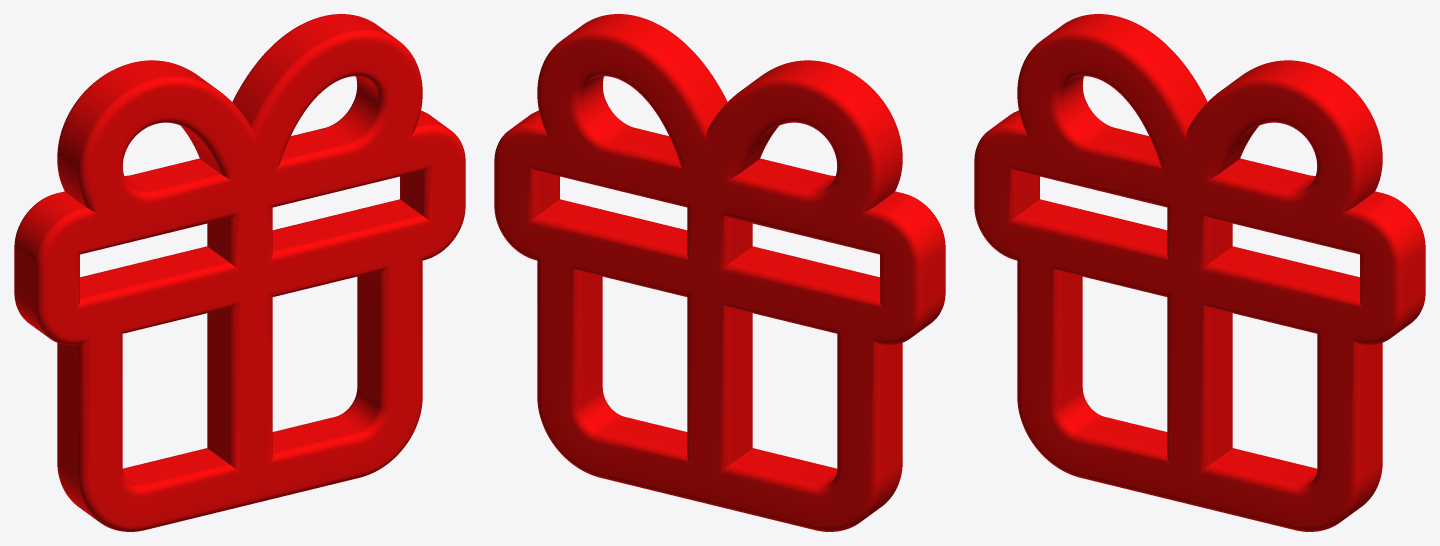
Rendered from gift3d.gltf.
3 views of the same model, side by side, from view 1: azimuth 30°, elevation 25°; view 2: azimuth 150°, elevation 25°; view 3: azimuth 330°, elevation 25° (orthographic).
Size of the model in its own units: 0.4096 by 0.4096 by 0.0477.
